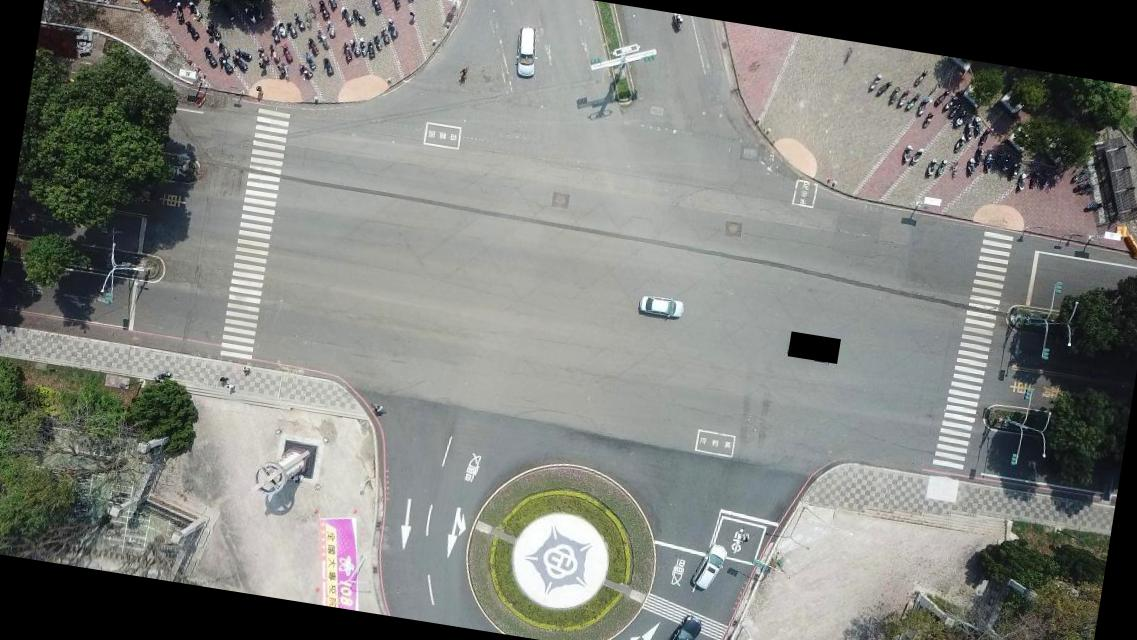vehicle: (690, 540, 728, 592), (511, 24, 542, 80), (636, 292, 686, 322), (652, 610, 703, 639)
